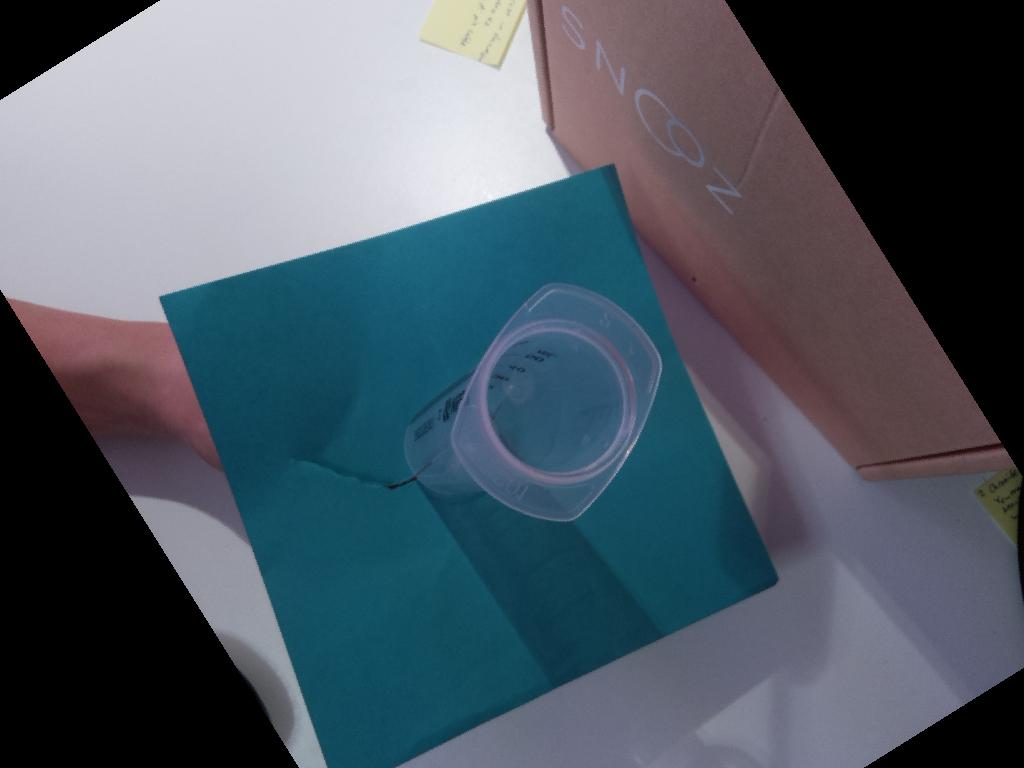clean: (451, 282, 664, 521)
